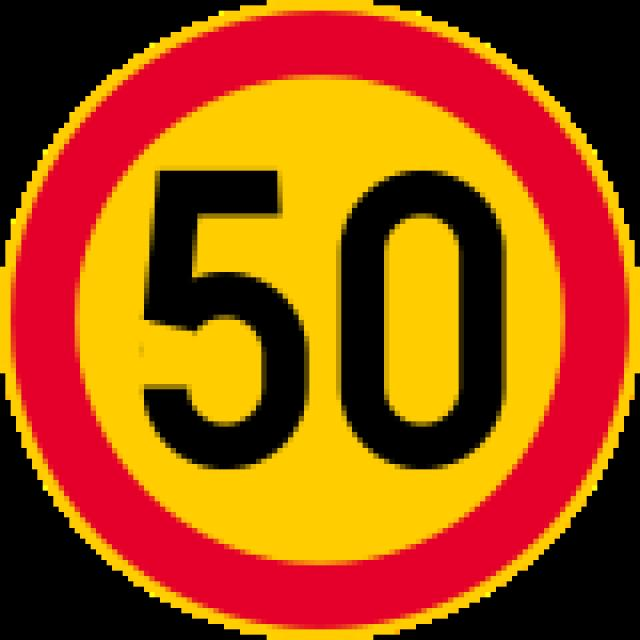Speed Limit -50-: (134, 162, 511, 476)
